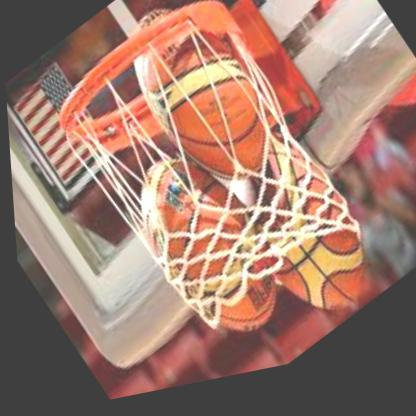basketball: (205, 115, 395, 360), (111, 132, 297, 377), (101, 0, 295, 223)
rim: (38, 0, 266, 187)
